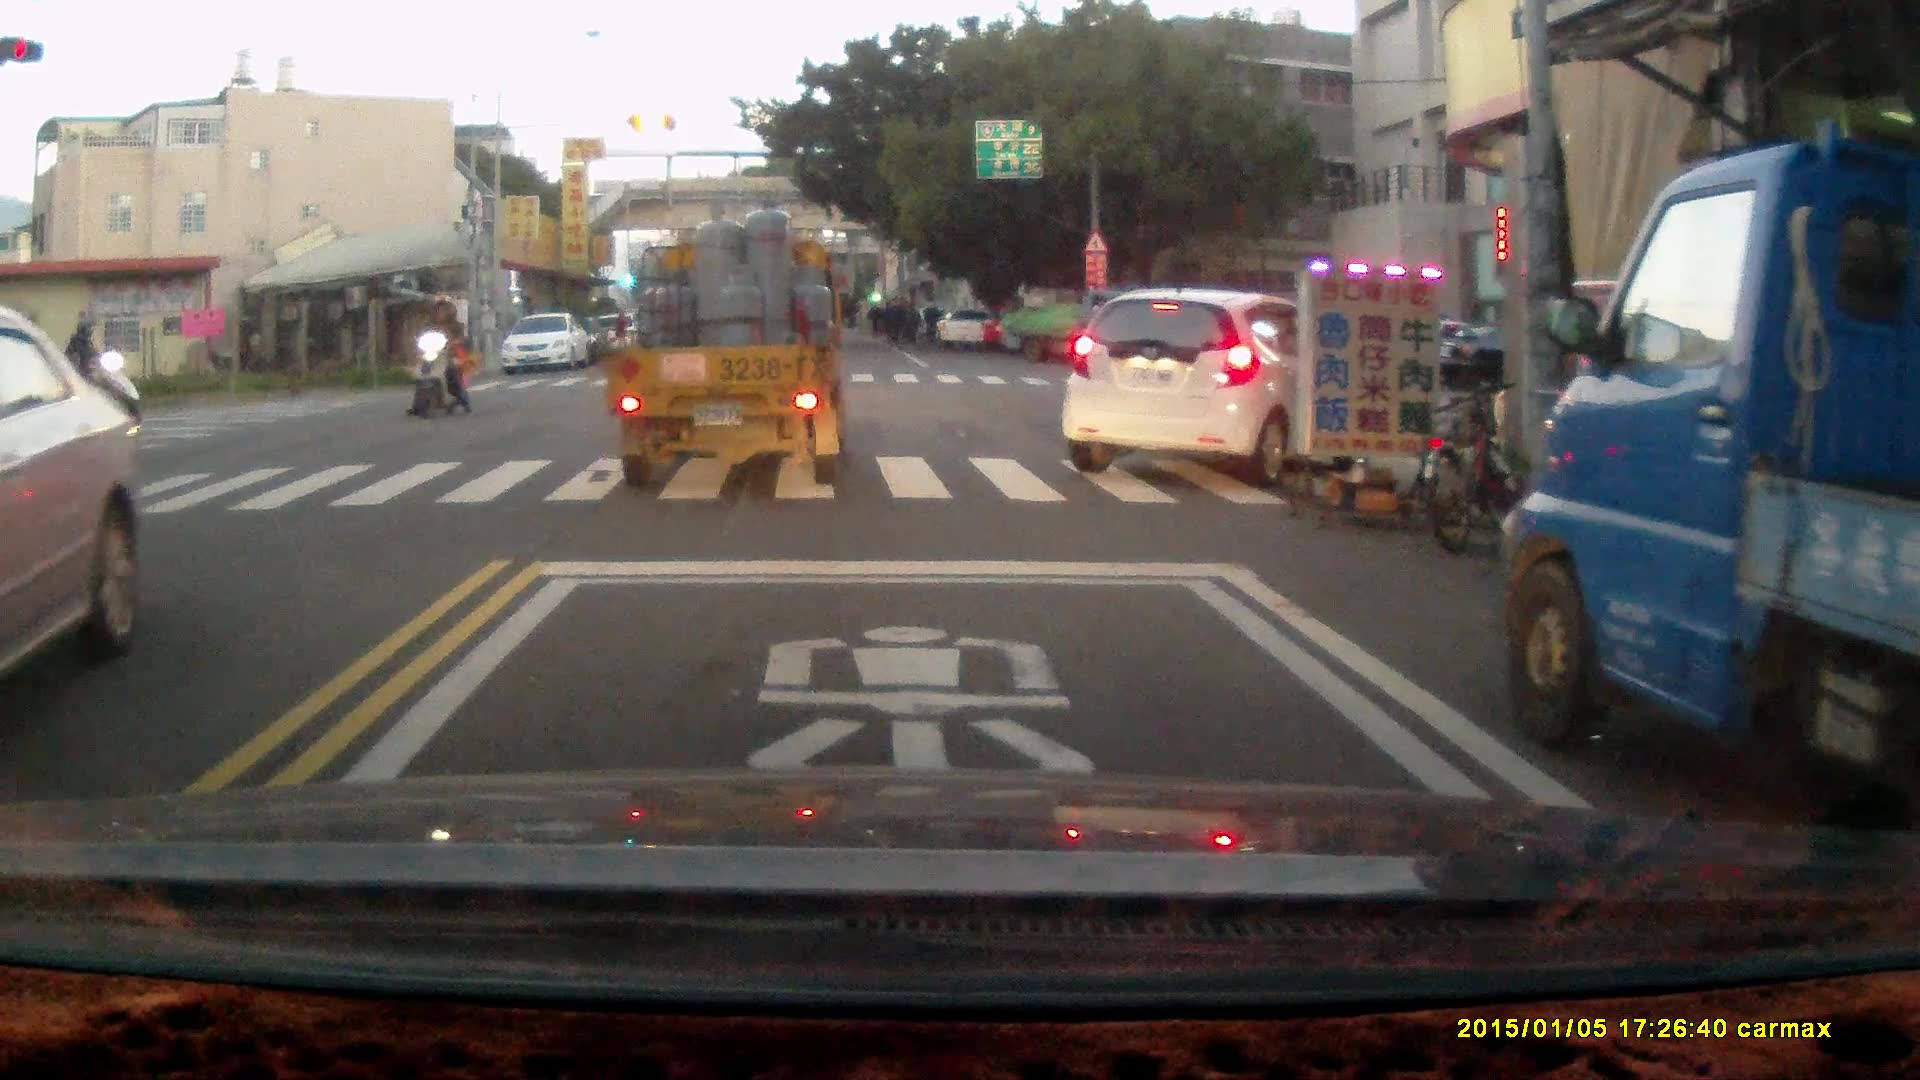rider: (48, 312, 139, 433), (407, 298, 470, 420)
vehicle: (1500, 132, 1920, 794), (602, 210, 850, 494), (1, 307, 147, 713), (1059, 288, 1345, 469), (1002, 284, 1169, 367), (505, 312, 588, 379)
